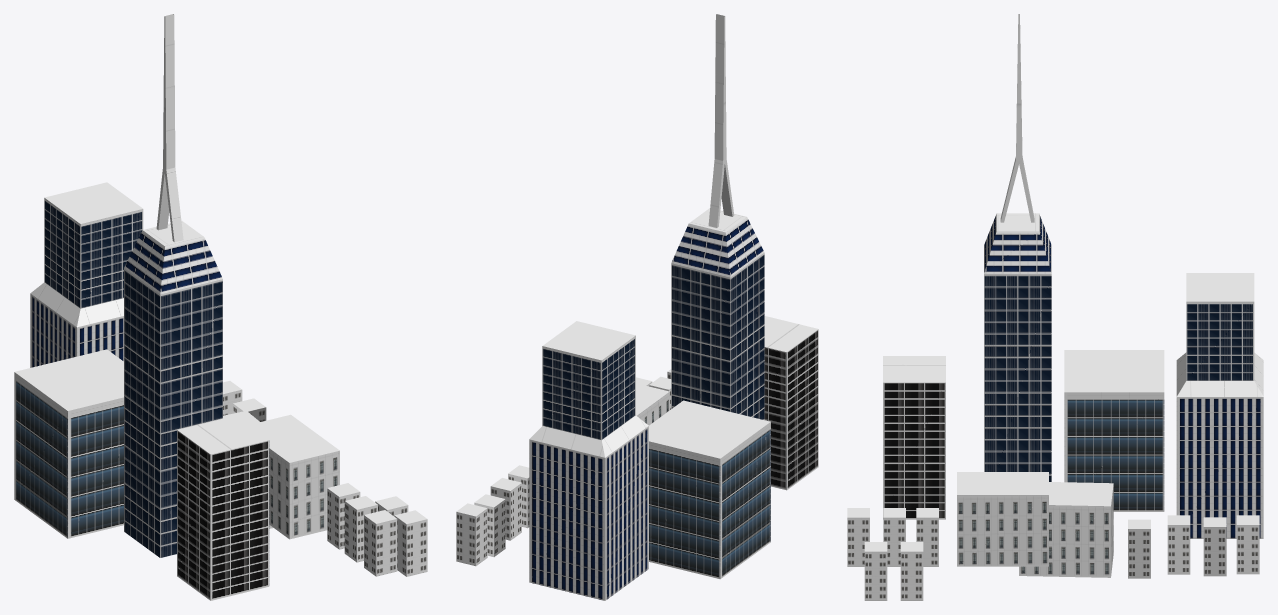
Rendered from m_cityGroup_01.fbx.
The picture shows the model from 3 angles, left to right: view 1: azimuth 30°, elevation 25°; view 2: azimuth 150°, elevation 25°; view 3: azimuth 270°, elevation 25°; orthographic projection. The views are drawn at different scales.
Parts seen in each view (by area): view 1: m_cityGroup_V01; view 2: m_cityGroup_V01; view 3: m_cityGroup_V01.
Boxes of the visible parts, left/top/right/bottom form: m_cityGroup_V01: left=14, top=14, right=427, bottom=600; m_cityGroup_V01: left=456, top=14, right=818, bottom=600; m_cityGroup_V01: left=847, top=14, right=1263, bottom=600.
Size of the model in its own units: 163 by 332 by 248.
